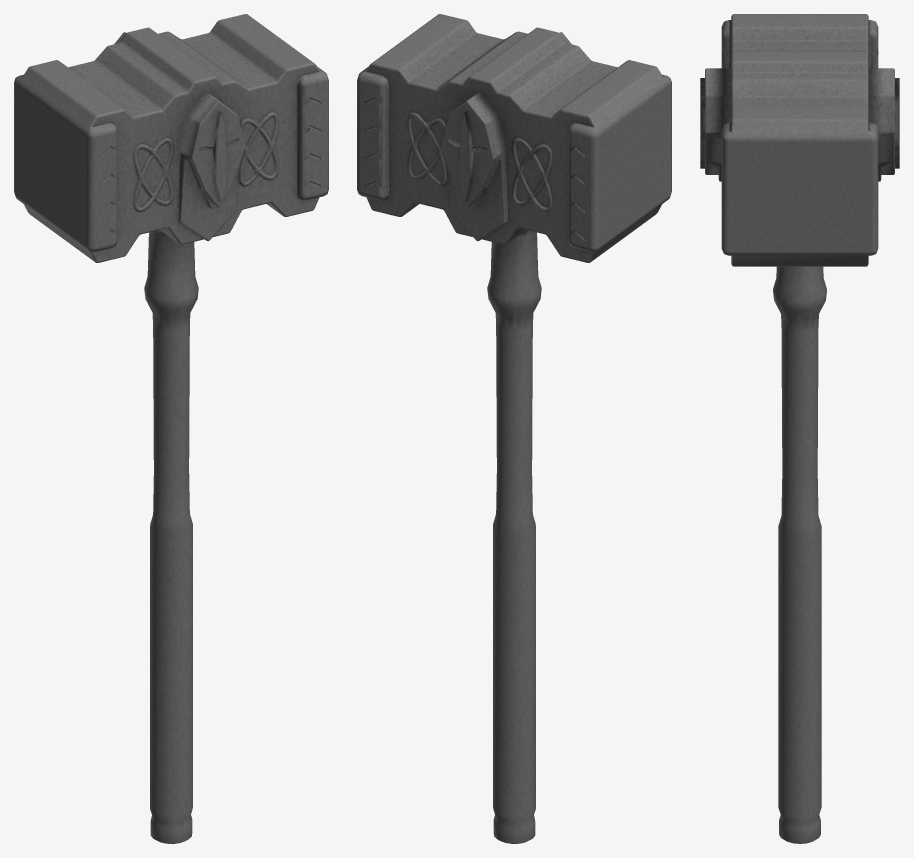
Rendered from maul-crafted.glb.
The picture shows the model from 3 angles, left to right: view 1: azimuth 30°, elevation 25°; view 2: azimuth 150°, elevation 25°; view 3: azimuth 270°, elevation 25°; orthographic projection.
Parts seen in each view (by area): view 1: maul-crafted; view 2: maul-crafted; view 3: maul-crafted.
Part boxes in pixels (x1,y1,x2,y2): maul-crafted: [14, 14, 328, 843]; maul-crafted: [357, 14, 671, 843]; maul-crafted: [700, 14, 899, 843].
Size of the model in its own units: 0.346 by 1.07 by 0.248.
1 material, 1 textured.
